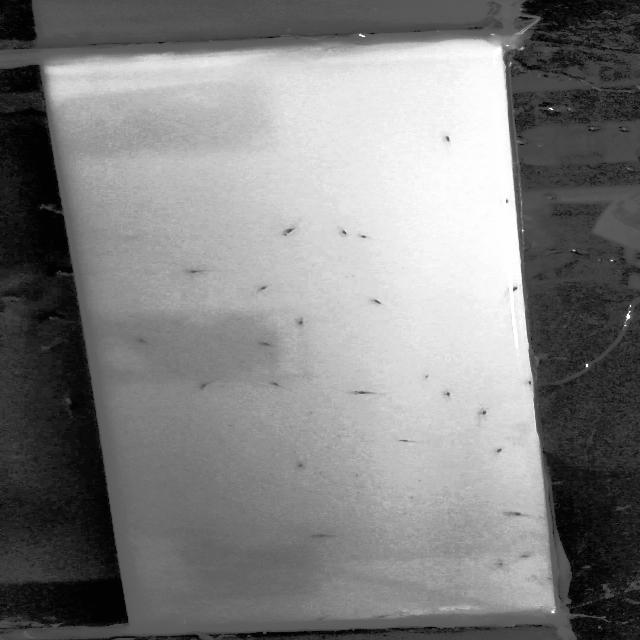shrimp: (272, 220, 304, 240), (473, 442, 512, 458), (130, 333, 160, 351), (253, 374, 286, 390), (435, 130, 463, 146), (344, 386, 380, 398), (329, 226, 354, 241), (309, 532, 341, 542), (502, 509, 531, 520), (362, 611, 396, 620), (253, 281, 274, 295), (440, 388, 463, 400), (289, 317, 310, 329), (187, 382, 215, 391), (478, 406, 496, 420), (175, 269, 210, 276), (258, 338, 274, 352), (358, 232, 374, 245), (366, 296, 386, 306), (507, 283, 520, 295), (308, 616, 334, 622), (399, 436, 416, 445)
